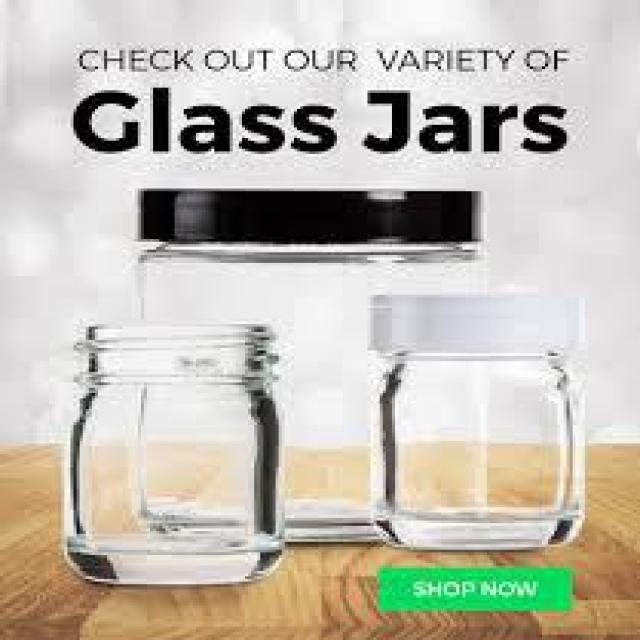Glass: (60, 319, 286, 591), (366, 288, 592, 551)
